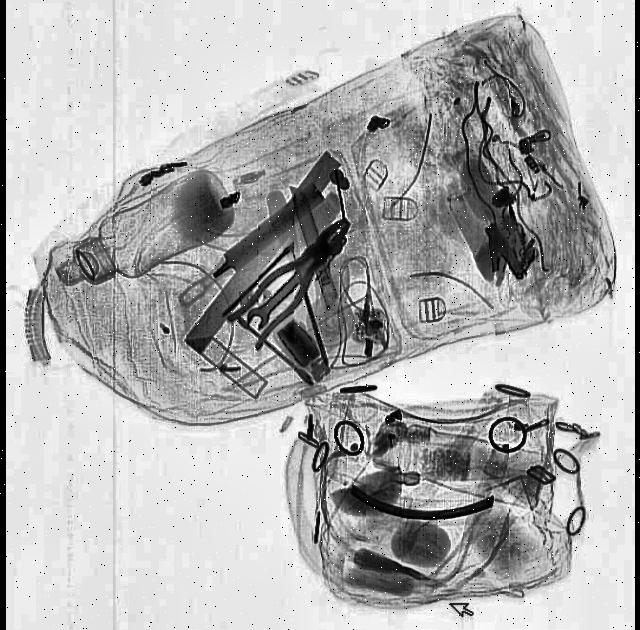Pliers: (226, 205, 360, 353)
Wrench: (240, 244, 324, 334)
